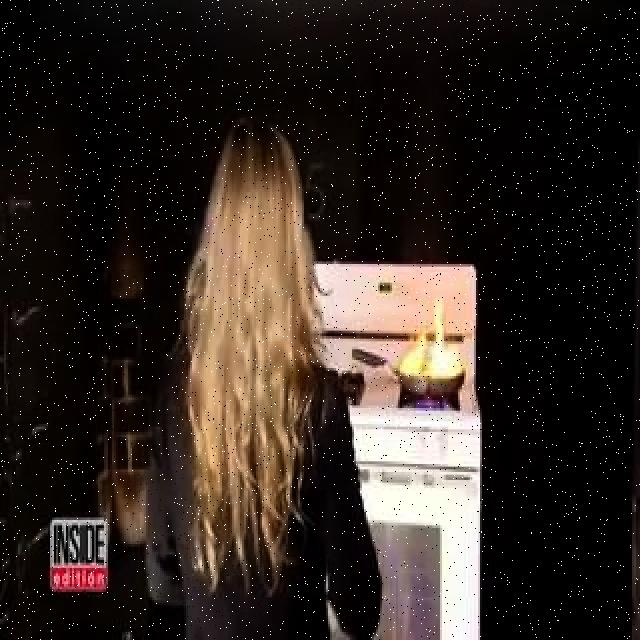fire: (404, 311, 463, 379)
